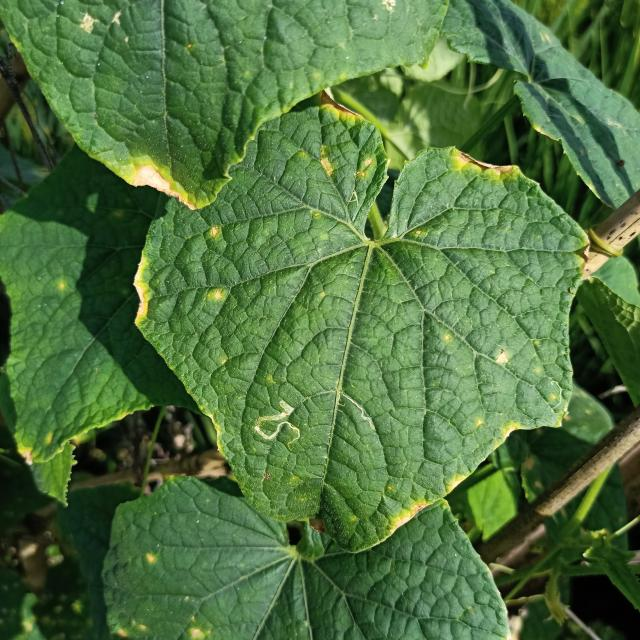disease_cucumber: (313, 91, 377, 184), (474, 411, 533, 448), (492, 348, 513, 370), (210, 287, 226, 303), (206, 226, 222, 241)
